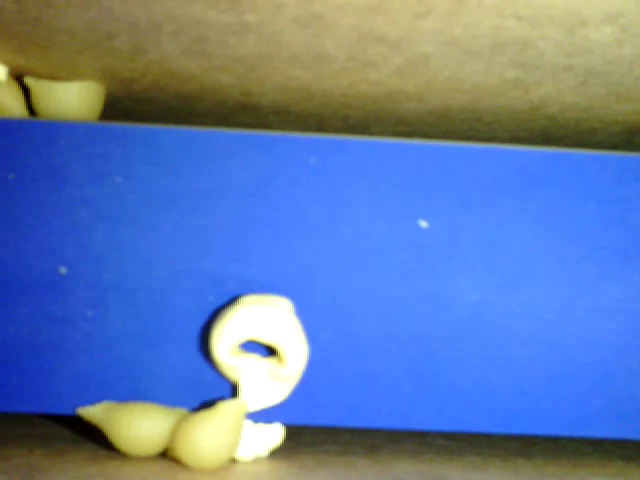shell: (74, 402, 192, 460), (166, 395, 245, 472), (24, 74, 105, 129)
tortellini: (201, 290, 314, 416)
